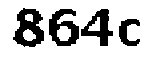4: (80, 7, 117, 49)
6: (47, 8, 79, 48)
8: (12, 7, 46, 49)
c: (119, 18, 143, 49)
